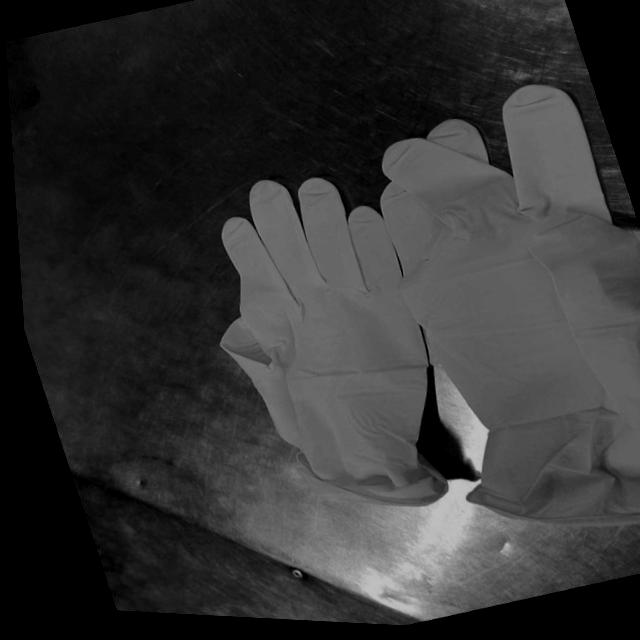General: (6, 2, 638, 627)
Infectious: (380, 83, 640, 523), (219, 175, 450, 506)
